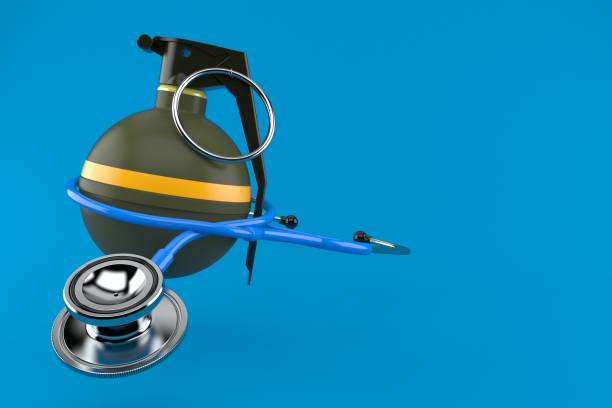e1: (76, 35, 276, 278)
